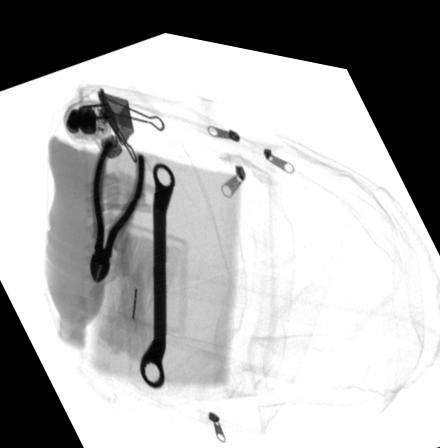Pliers: (87, 132, 145, 279)
Wrench: (137, 154, 175, 380)
